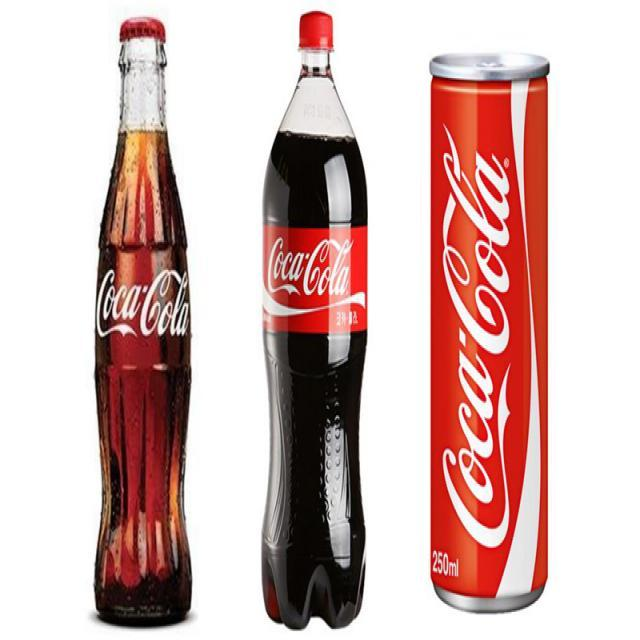coca-cola: (426, 41, 554, 619)
